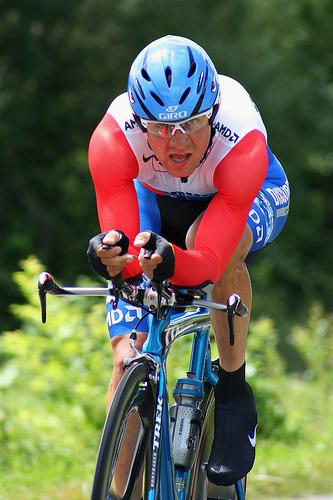car: (40, 273, 247, 500)
person: (87, 35, 292, 488)
